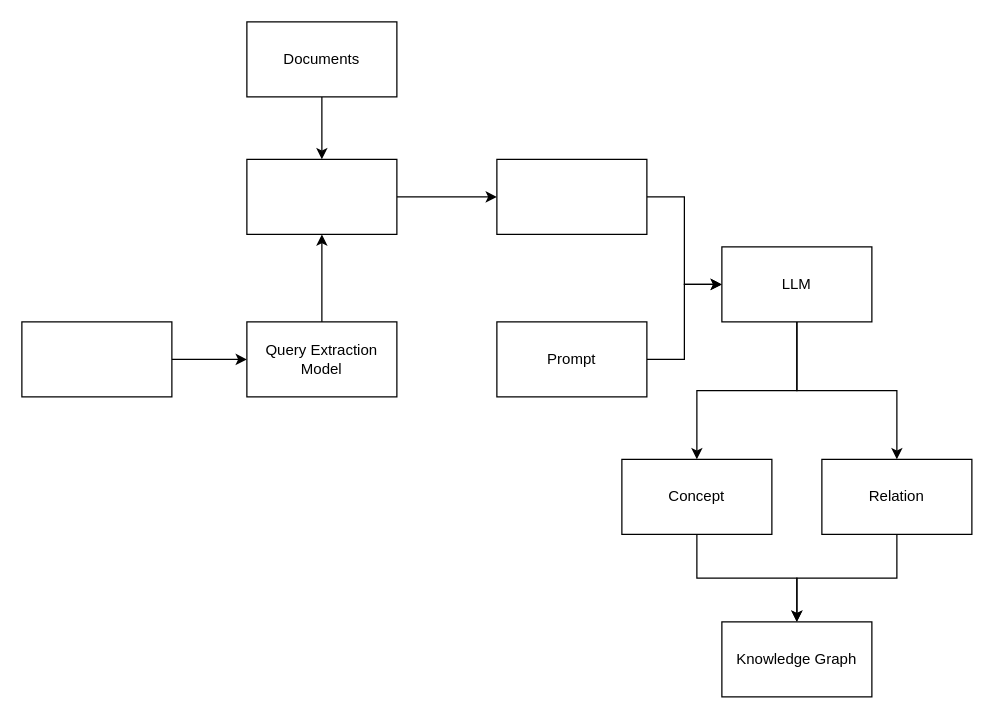
This 994x719 diagram has some shape labels left out. Each missing label, with the box of its shape:
Context: (496, 158, 647, 234)
Retriever: (246, 158, 397, 234)
User Topic: (21, 321, 172, 397)
